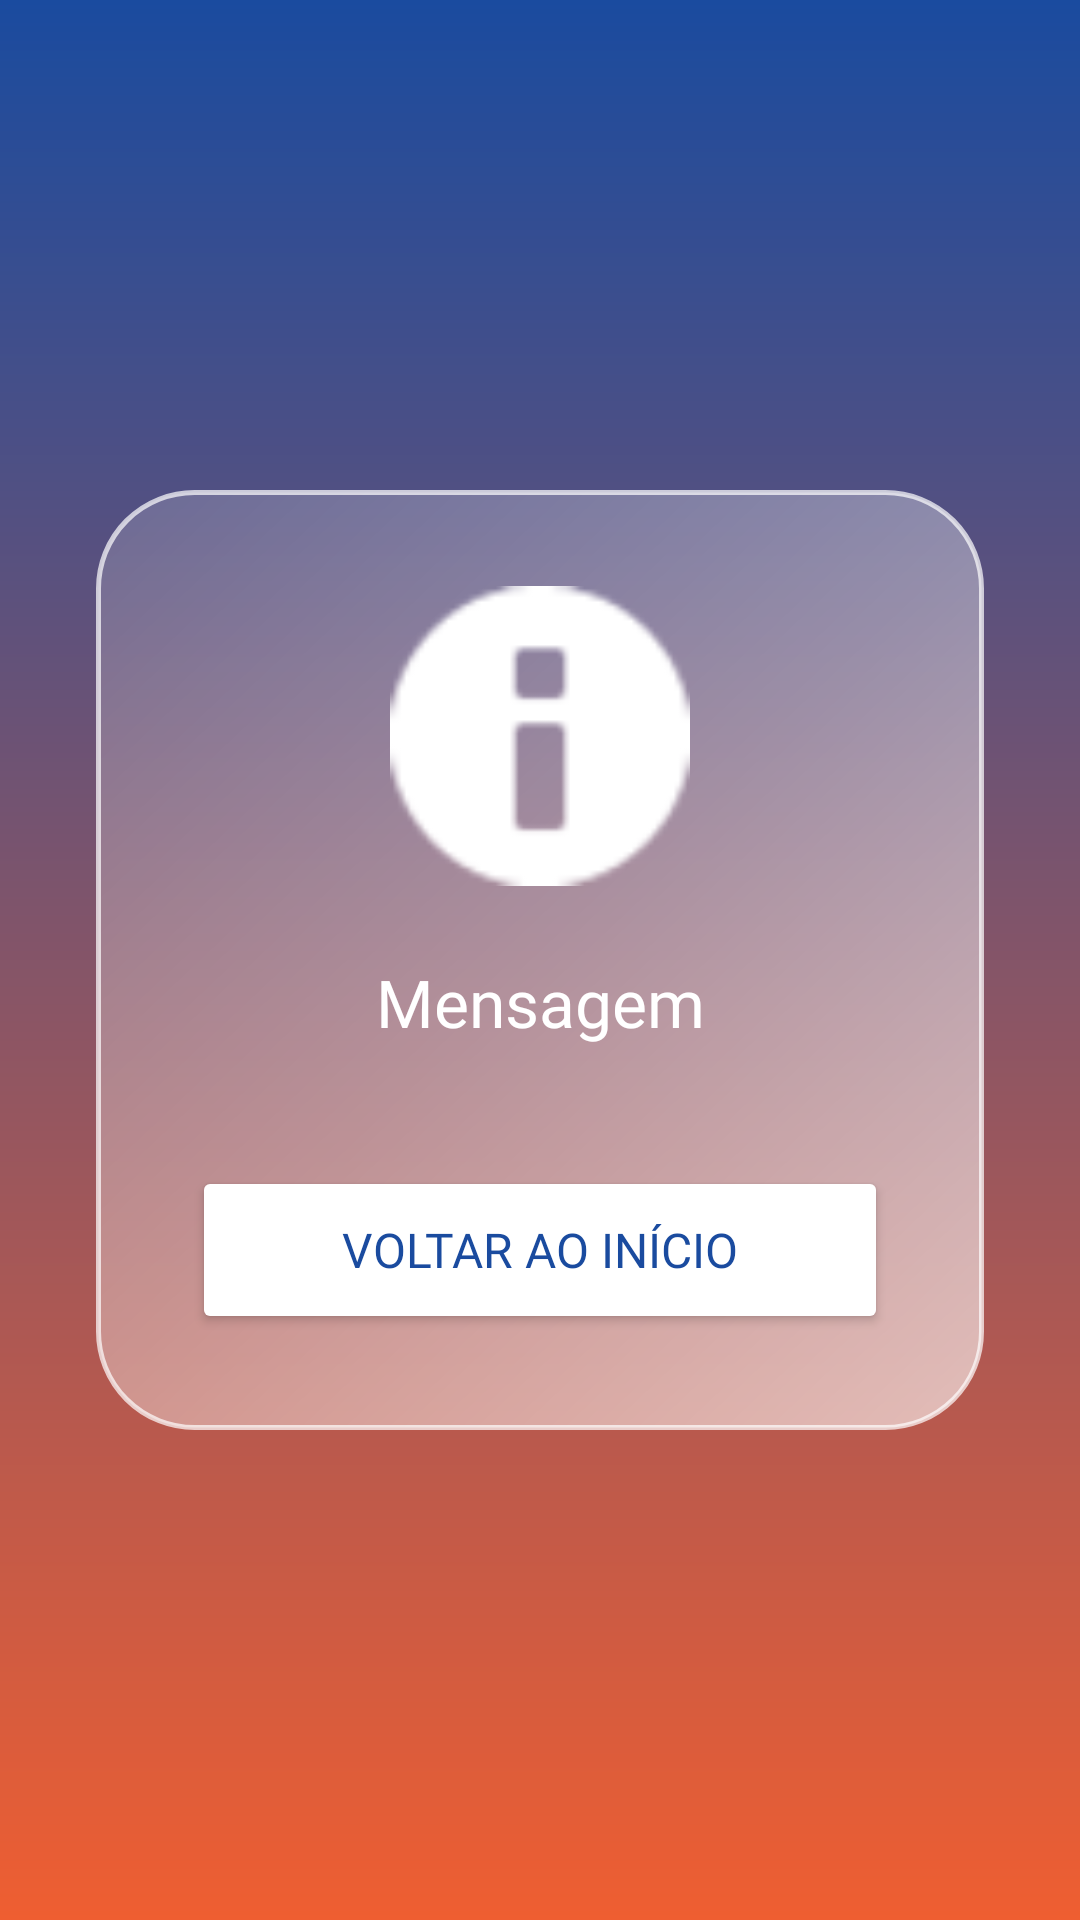

Named icons in this screenshot (1080 × 1920) and their centers, (x,y):
info: (540,736)
